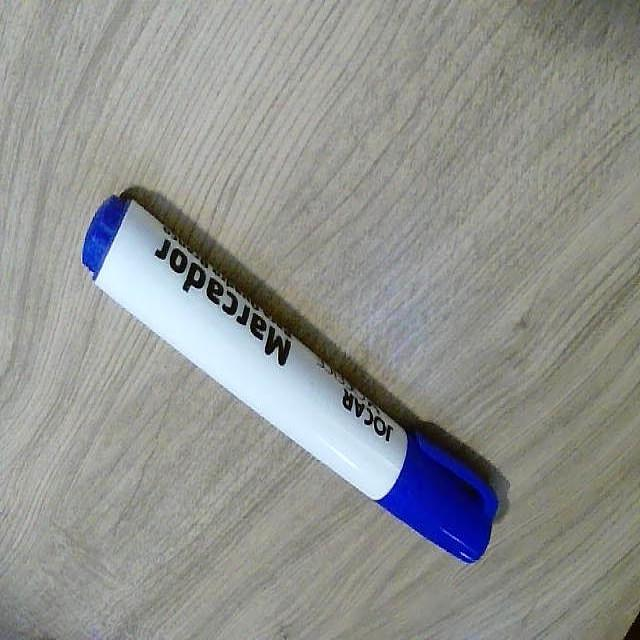caneta: (75, 167, 516, 595)
